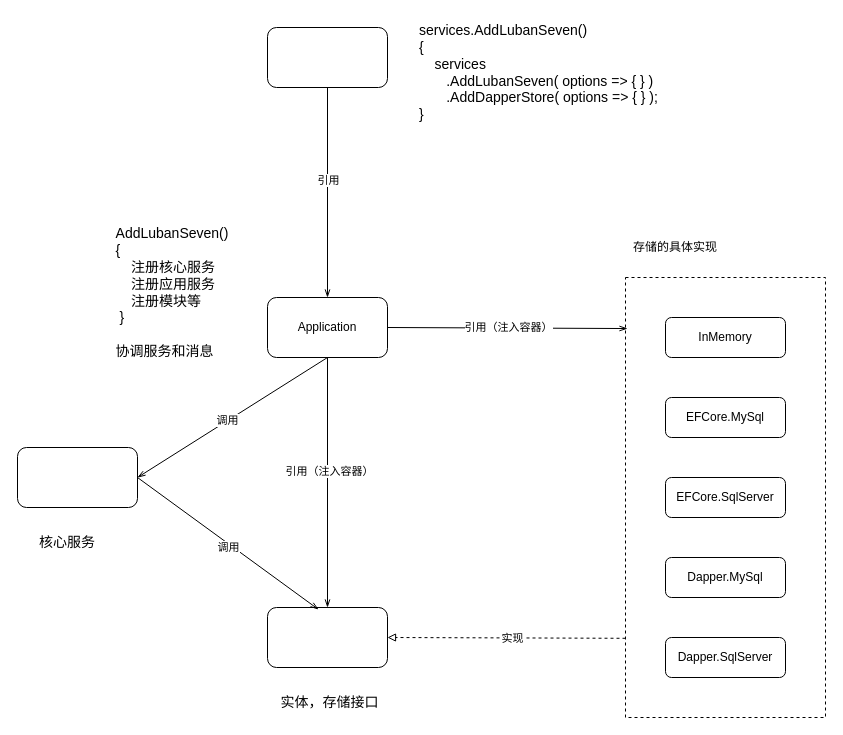
The diagram is 843 pixels wide and 735 high, and some of its shapes have lost their labels. Each missing label, with the box of its shape:
Core: (16, 446, 138, 508)
Host: (266, 26, 388, 88)
Storage: (266, 606, 388, 668)
